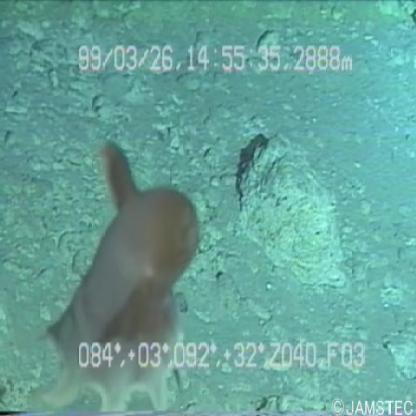Bio: (30, 135, 207, 416)
